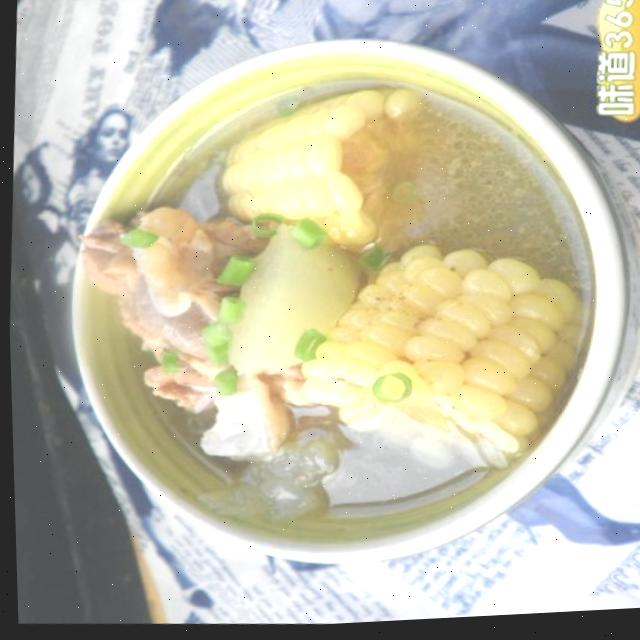汤锅炖物: (40, 15, 625, 598)
